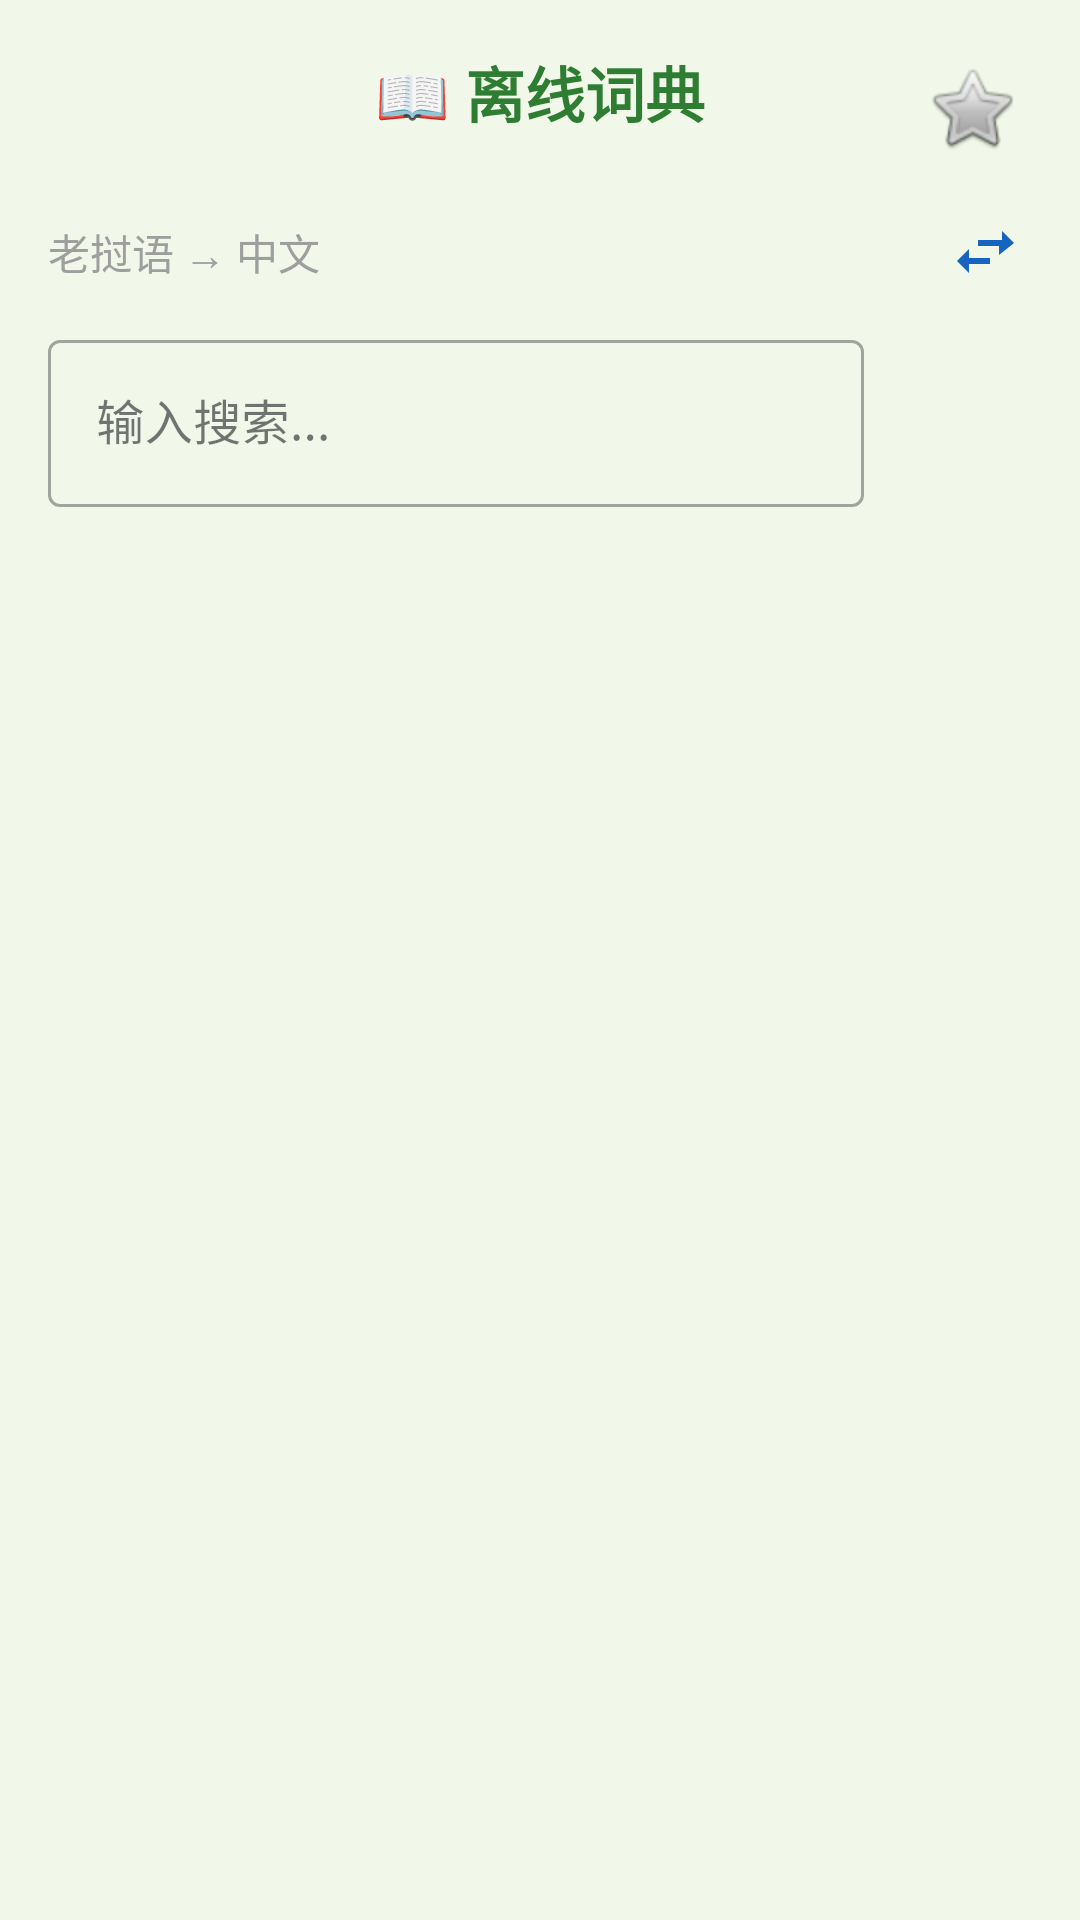

Icon click points for this 1080×1920 phone screenshot, format (x,y):
切换: (985,252)
收藏: (973,109)
